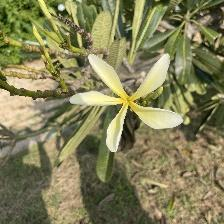champaka: (67, 52, 190, 157)
